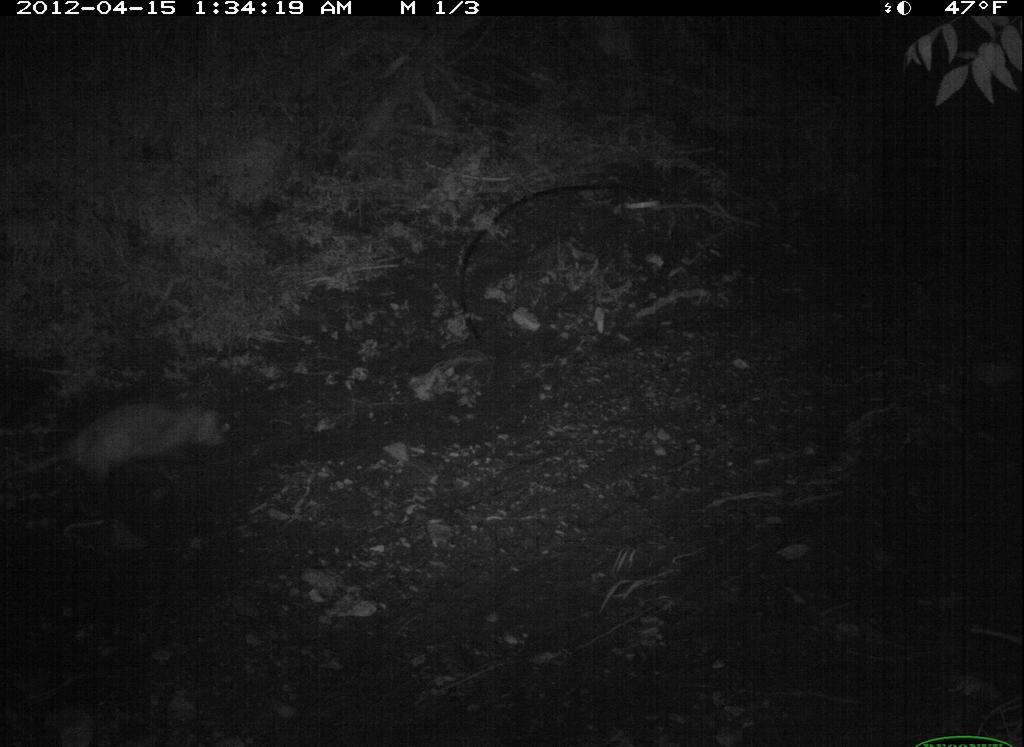opossum: (42, 390, 280, 535)
